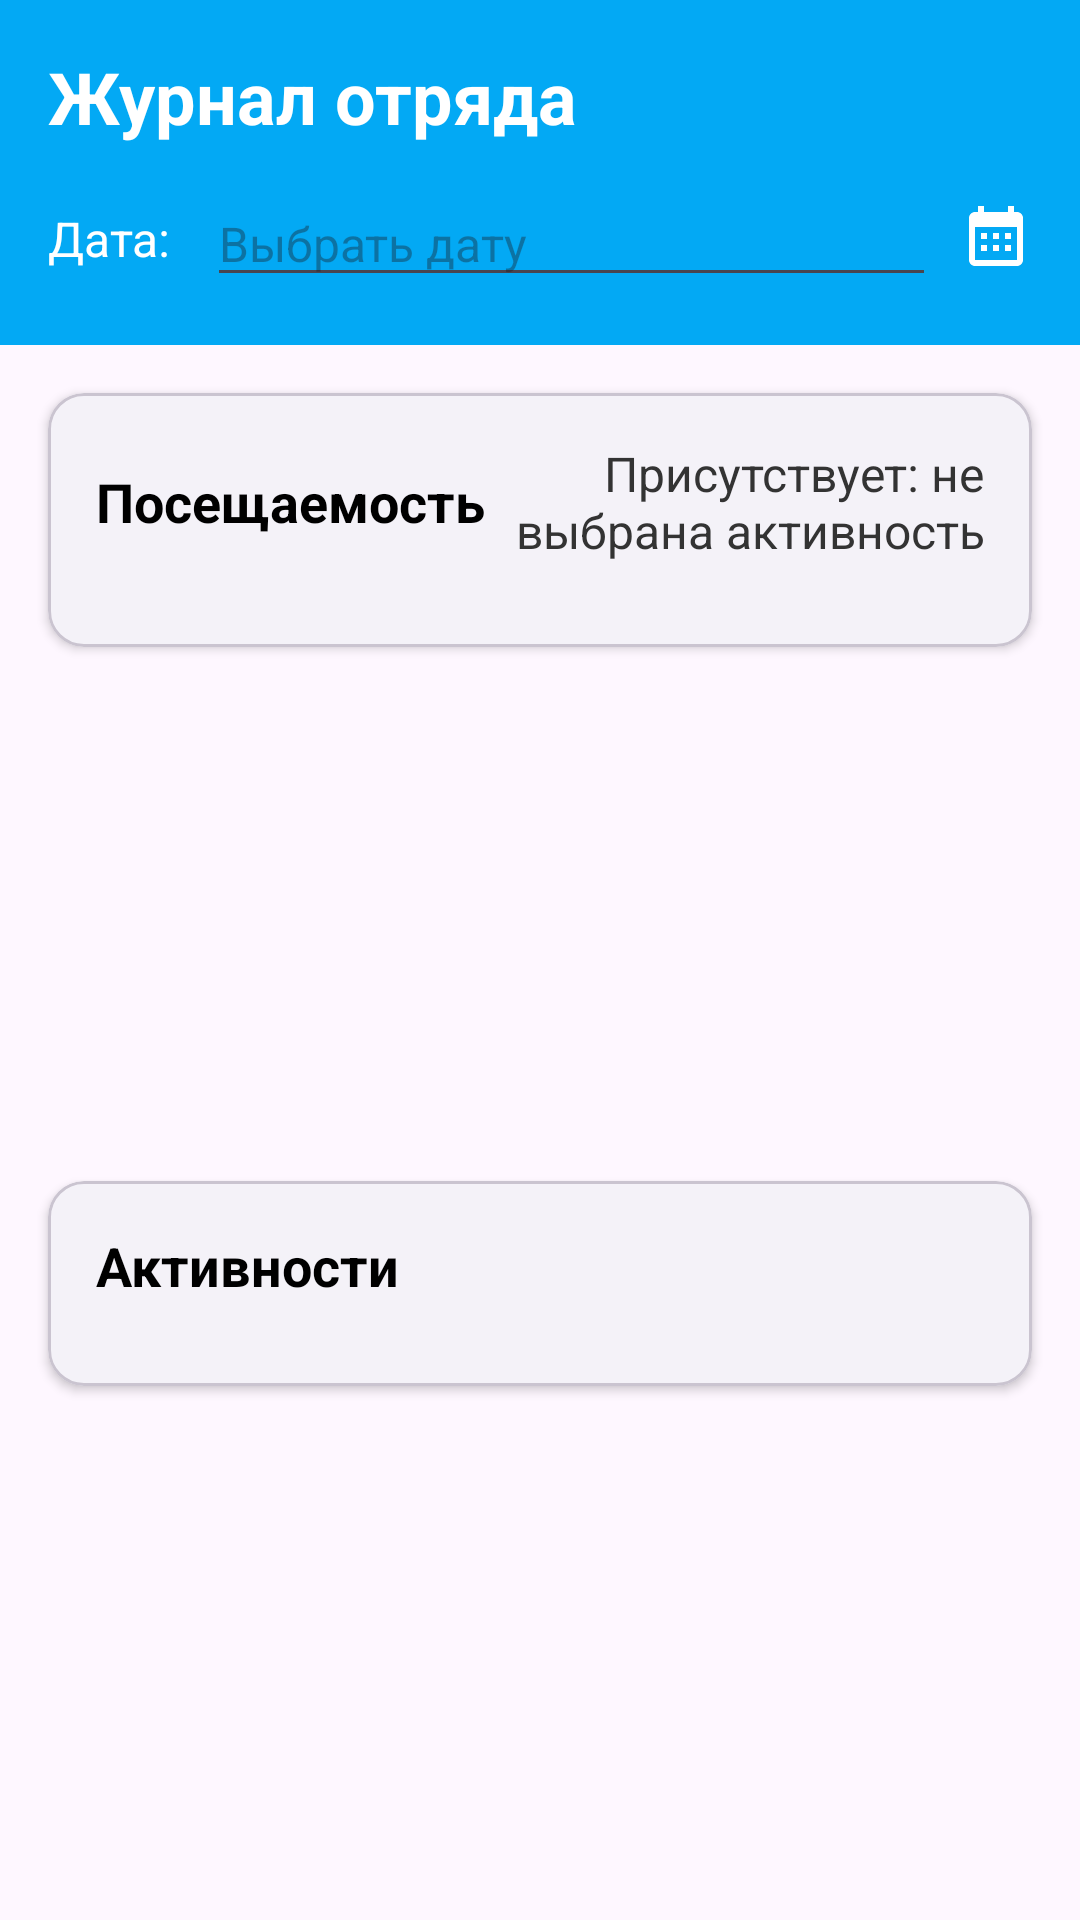

Where to tap for icons on this 1080px x 1920px app screen, as [x,y]:
Календарь: [996,236]
